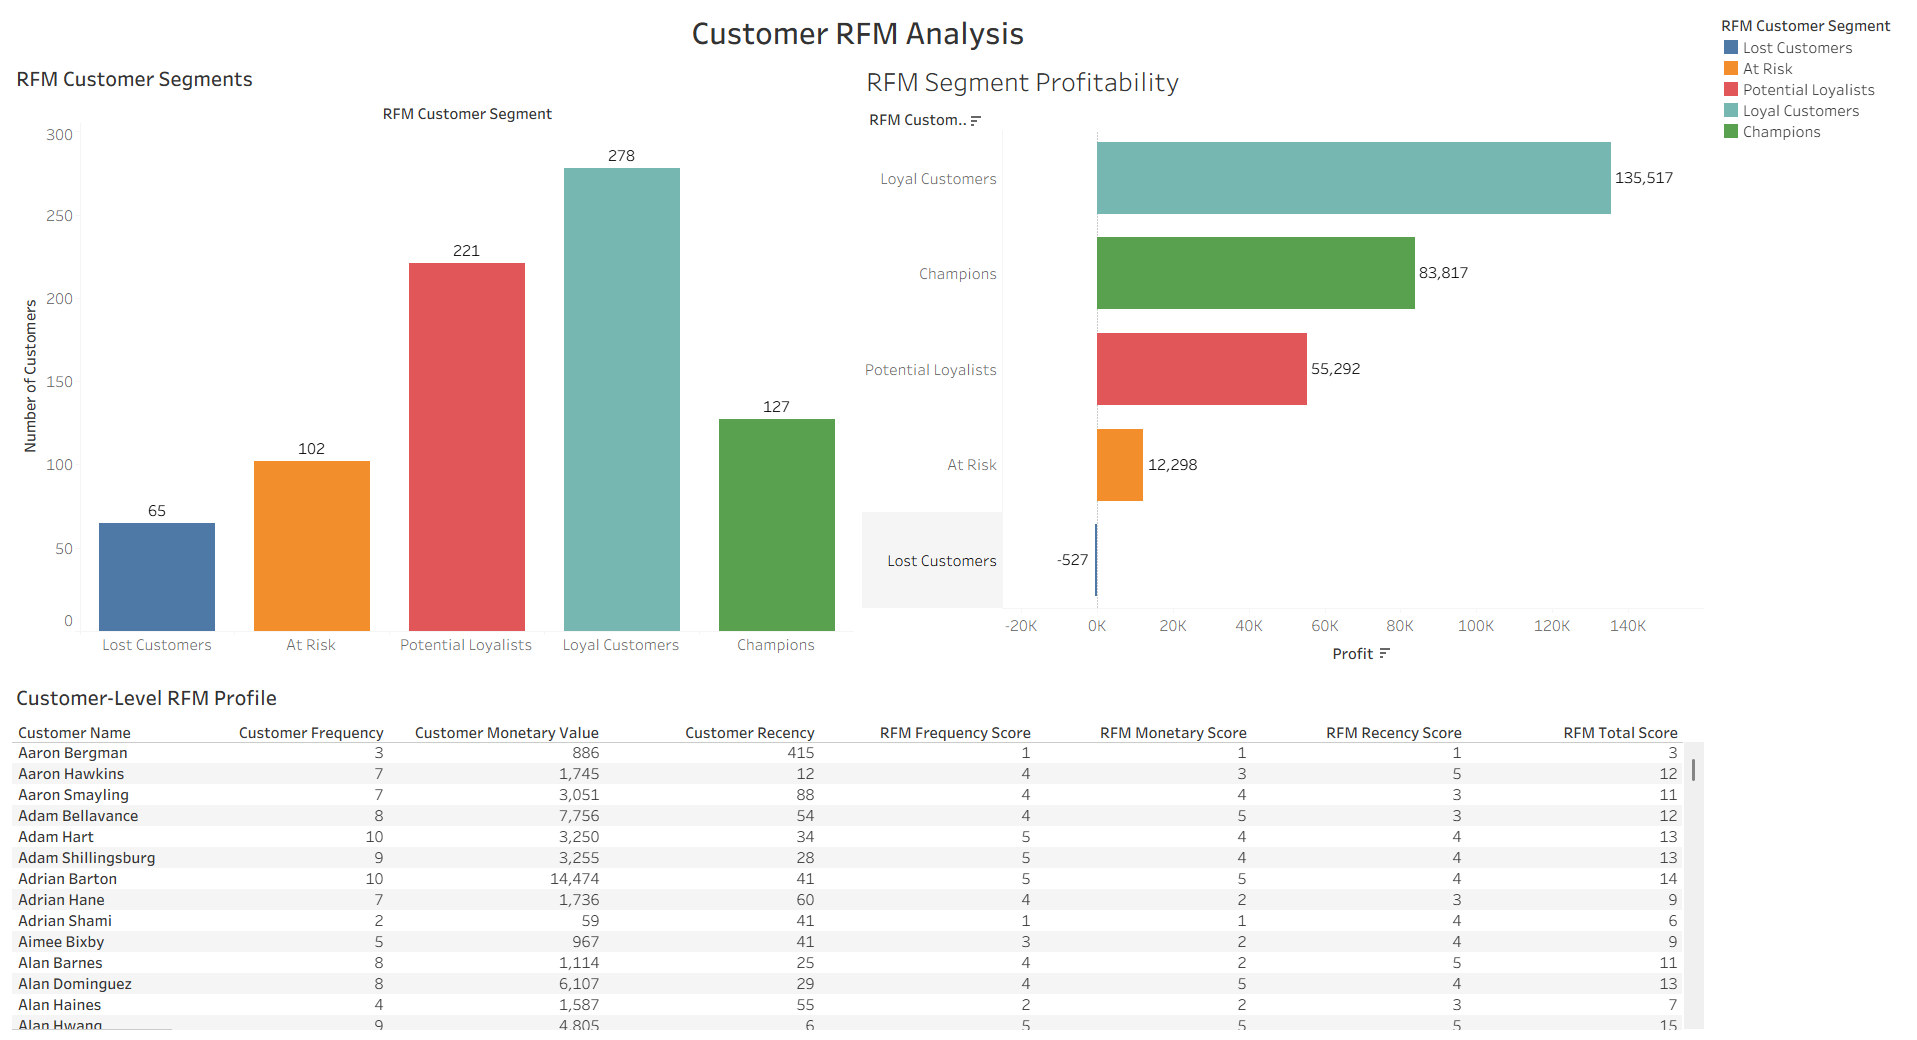

The page's visual inventory and layout, read from the dashboard file:
{"tool":"tableau","page":{"name":"Customer RFM Analysis","canvas":[1000,1000],"units":"permille","ordinal":0},"visuals":[{"type":"title","box":[9.7,9.5,875.6,58.3]},{"type":"legend","title":"RFM Customer Segments","param":"[federated.07t9vp60klim5p0znt99z1xn62fo].[none:Calculation_0838696182685705:nk]","box":[896.3,15.3,97.8,151.6]},{"type":"worksheet","title":"RFM Customer Segments","mark":"Automatic","rows":["Customer Name"],"cols":["Calculation_0838696182685705"],"box":[9.7,67.8,438.2,585]},{"type":"worksheet","title":"RFM Segment Profitability","mark":"Bar","rows":["Calculation_0838696182685705"],"cols":["Profit"],"box":[447.9,67.8,437.1,585]},{"type":"worksheet","title":"Customer RFM Profile","mark":"Automatic","rows":["Customer Name"],"box":[9.7,652.2,875.6,338.2]}]}

Visuals, with their boxes on the dashboard's canvas, which has no fixed pixel size, in thousandths of its width and height (x1, y1, x2, y2). These are canvas units, not pixel positions in the 1917x1040 screenshot, which may show the page scaled, cropped or inside an application window:
title: (10,10,885,68)
"RFM Customer Segments" legend: (896,15,994,167)
"RFM Customer Segments" worksheet: (10,68,448,653)
"RFM Segment Profitability" worksheet (Bar marks): (448,68,885,653)
"Customer RFM Profile" worksheet: (10,652,885,990)
